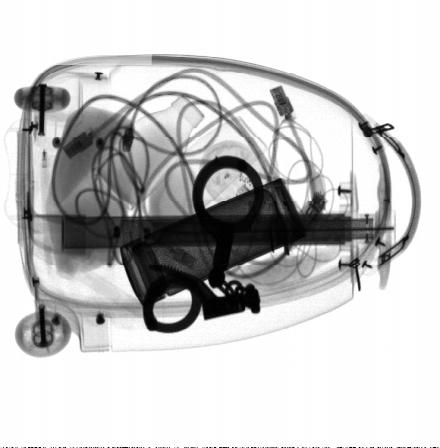HandCuffs: (143, 152, 266, 335)
